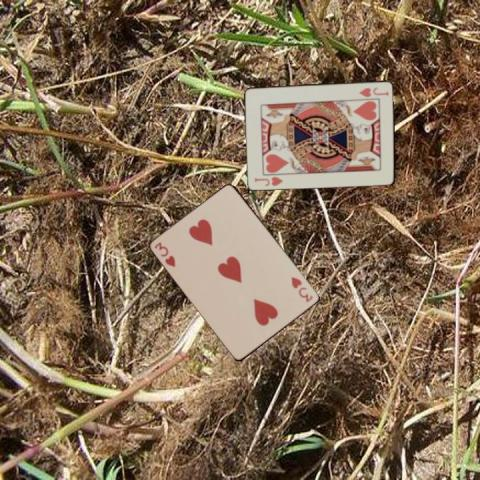3h: (288, 274, 314, 303), (152, 238, 177, 268)
Jh: (252, 174, 285, 188), (357, 84, 390, 97)
